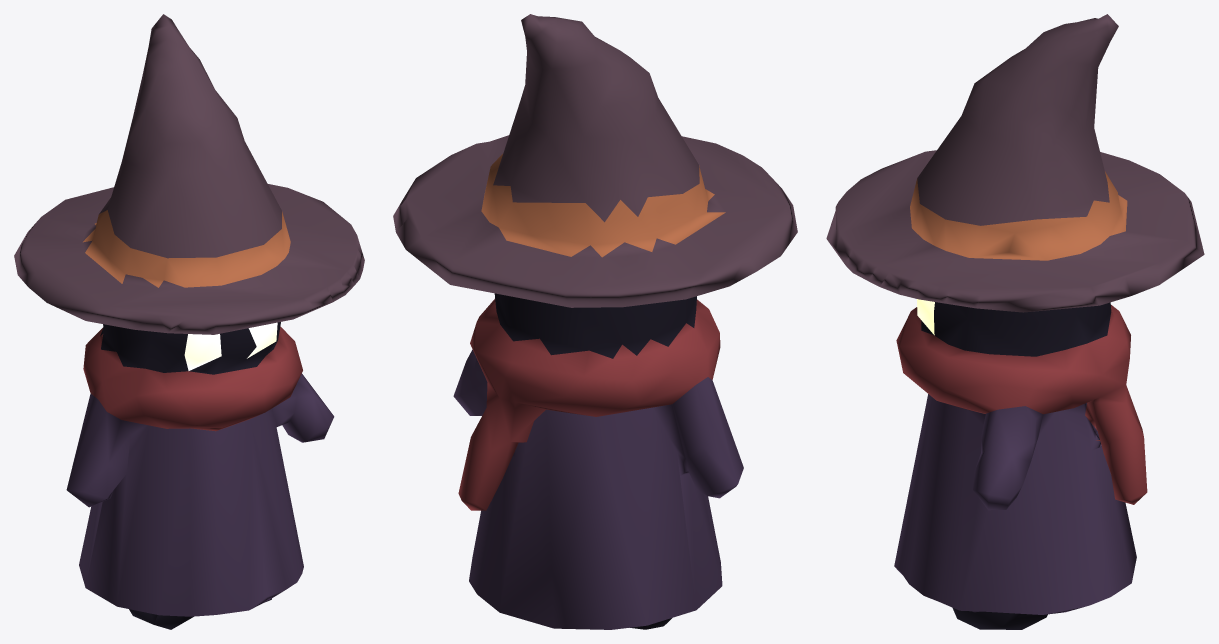
The model's file is caretaker.glb.
The picture shows the model from 3 angles, left to right: view 1: azimuth 30°, elevation 25°; view 2: azimuth 150°, elevation 25°; view 3: azimuth 270°, elevation 25°; orthographic projection. The views are drawn at different scales.
Parts seen in each view (by area): view 1: caretaker; view 2: caretaker; view 3: caretaker.
Boxes of the visible parts, x1,y1,x2,y2 form: caretaker: (14,14,364,629); caretaker: (393,14,797,629); caretaker: (826,14,1204,629).
Size of the model in its own units: 1.07 by 1.85 by 1.06.
